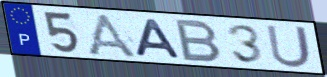3: (226, 24, 265, 65)
5: (41, 9, 82, 54)
A: (84, 12, 141, 60), (132, 18, 184, 60)
B: (174, 18, 224, 63)
U: (264, 23, 314, 70)
